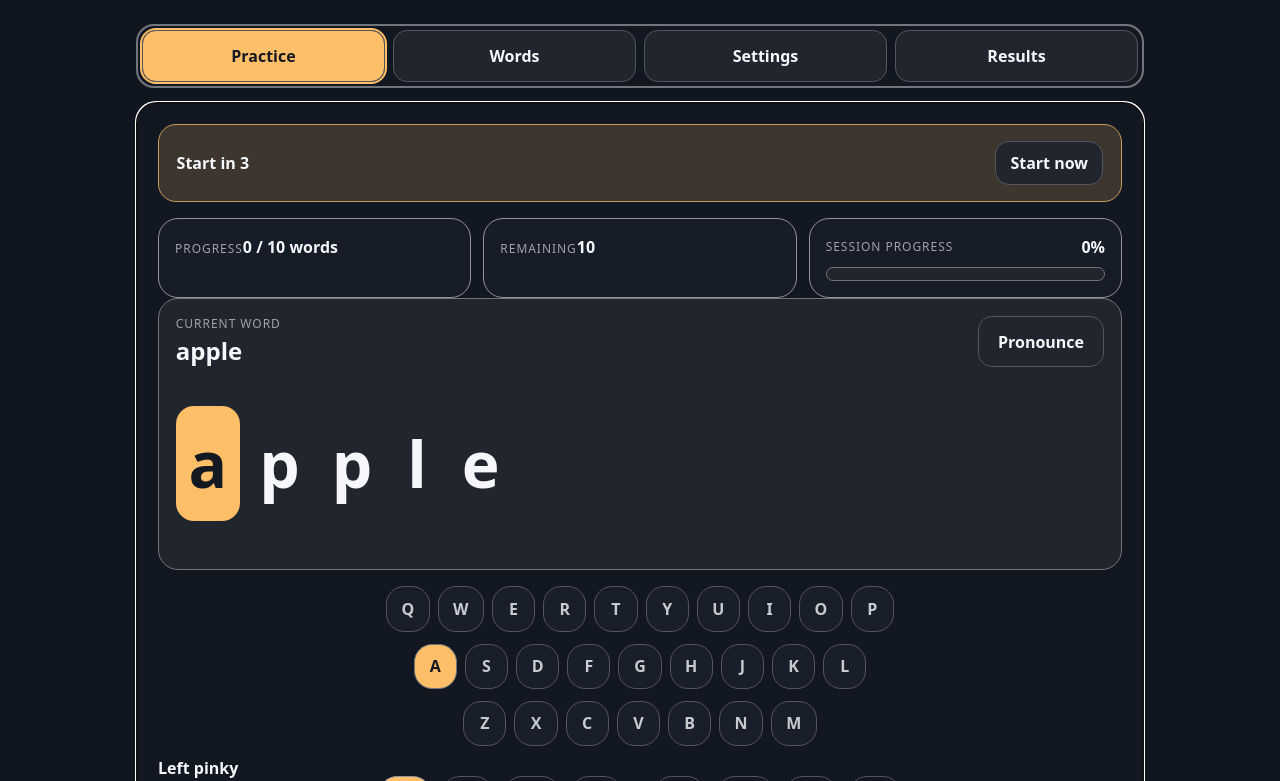
Test case: App › toggles visible bulk selection for custom words
Click the button "Words": coordinates (514, 56) [393,30,636,82]
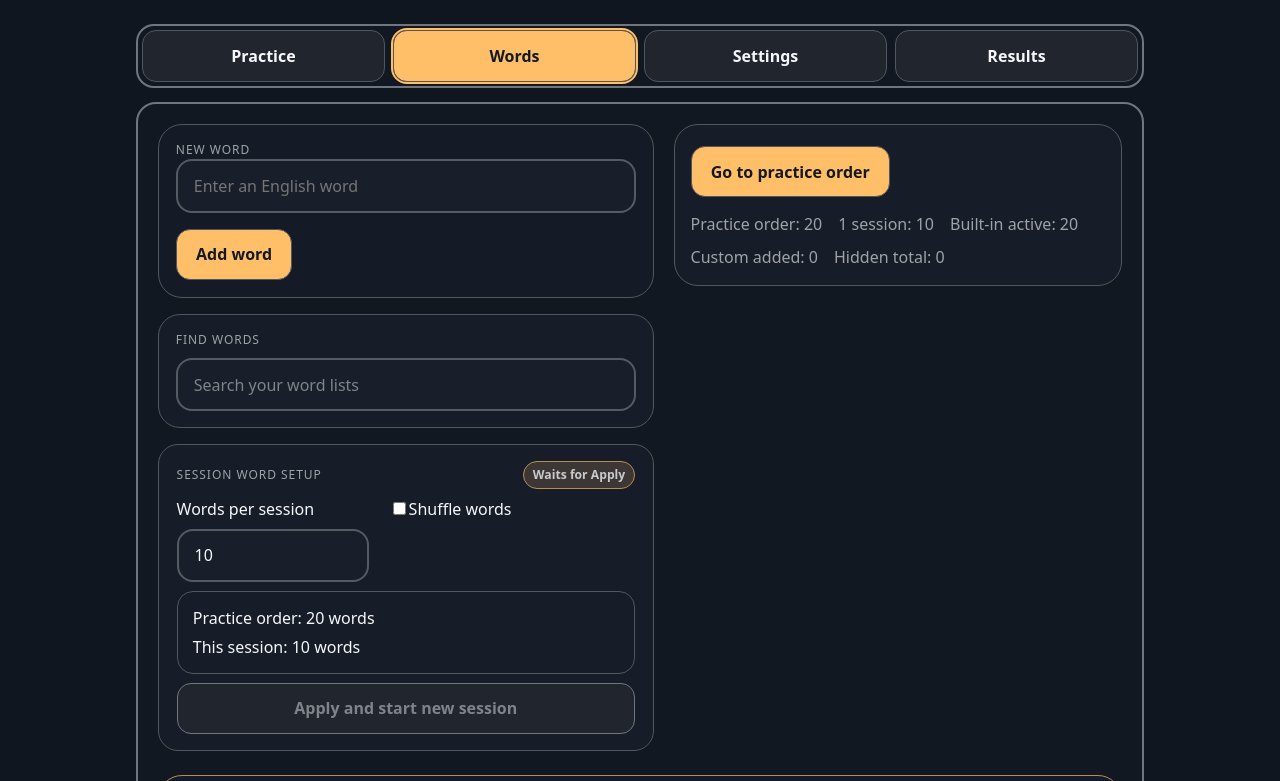
In the field named "New word": coordinates (406, 186) [176,159,636,213], type "banana"
Click the button "Add word": coordinates (234, 254) [176,229,292,280]
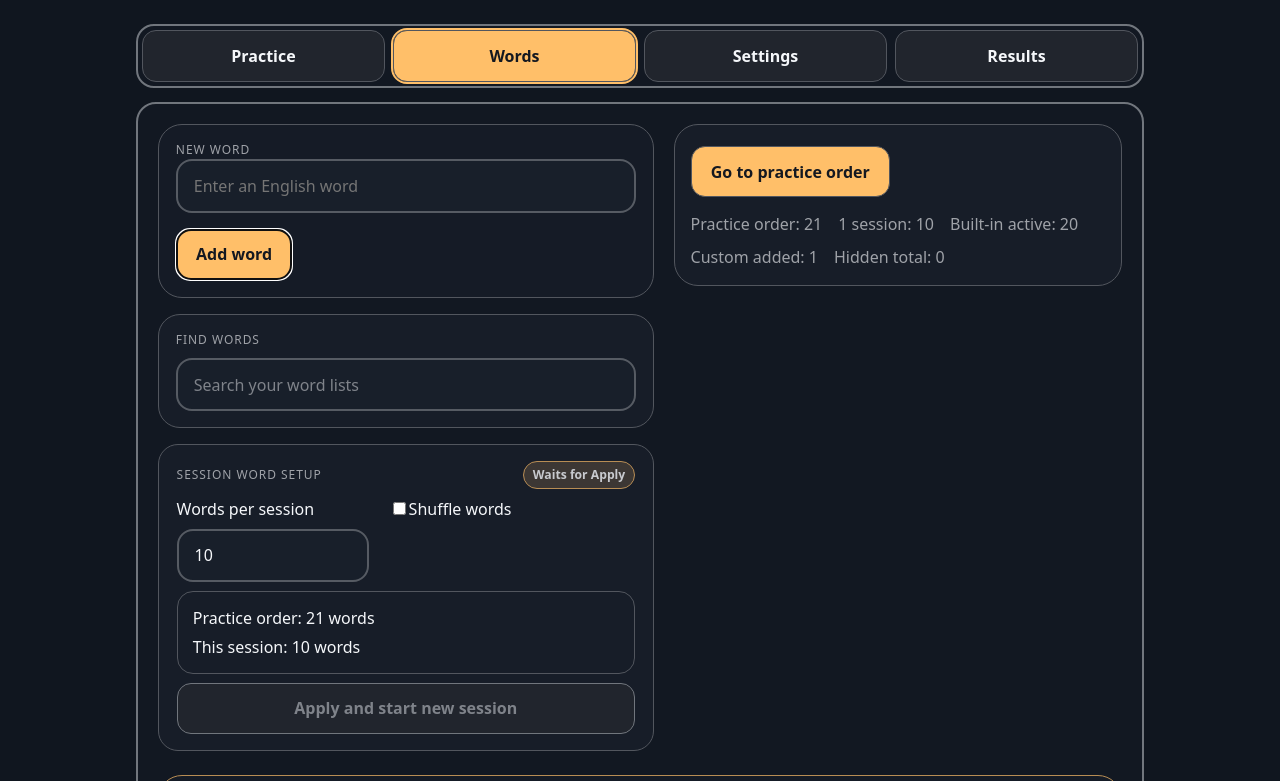
In the field named "New word": coordinates (406, 186) [176,159,636,213], type "grape"
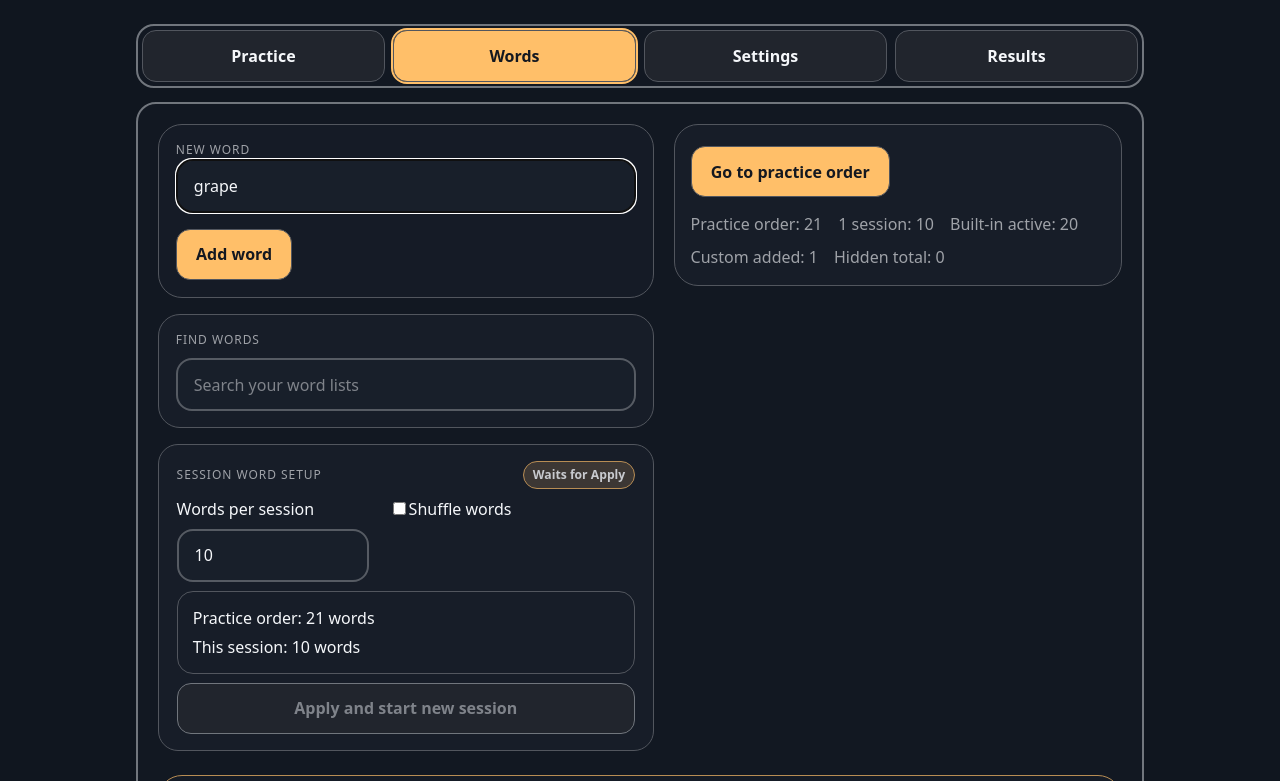
Click the button "Add word": coordinates (234, 254) [176,229,292,280]
(page scrolled)
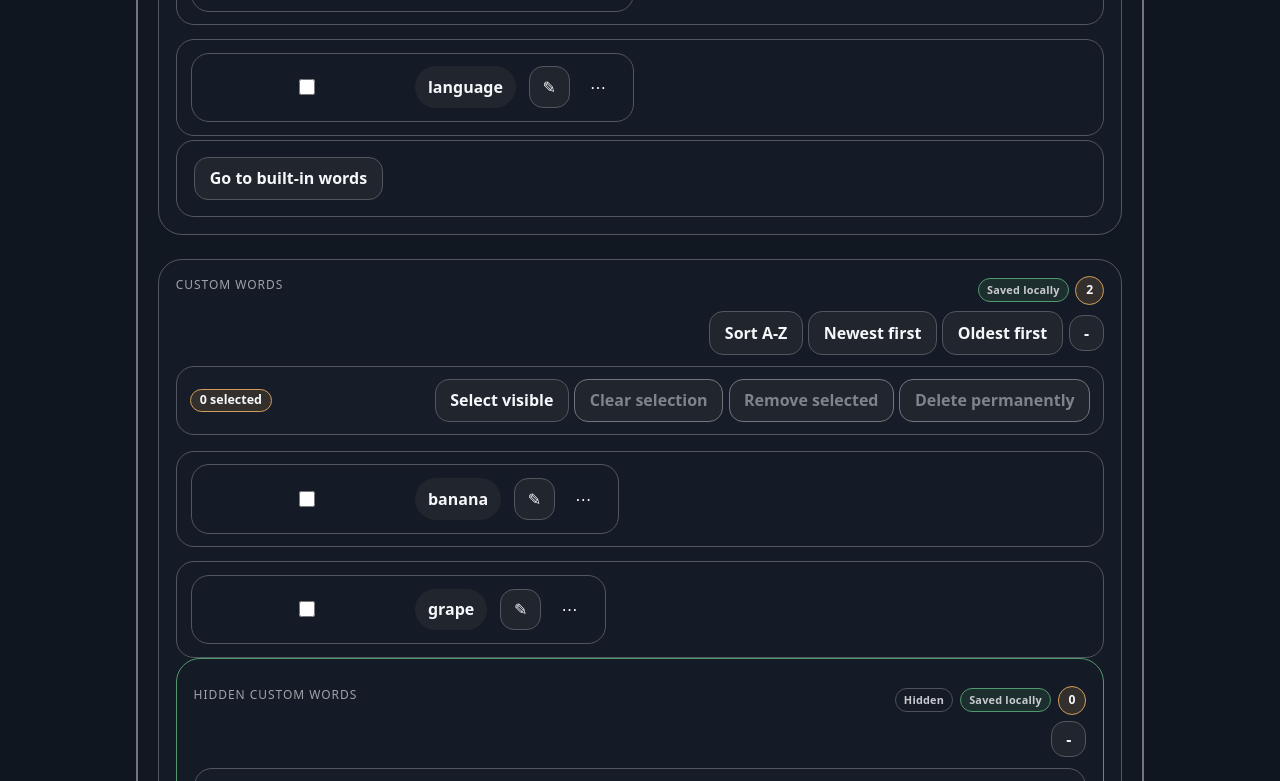
Click the button with test id "bulk-select-visible-custom-button": coordinates (502, 400) [435,378,569,422]
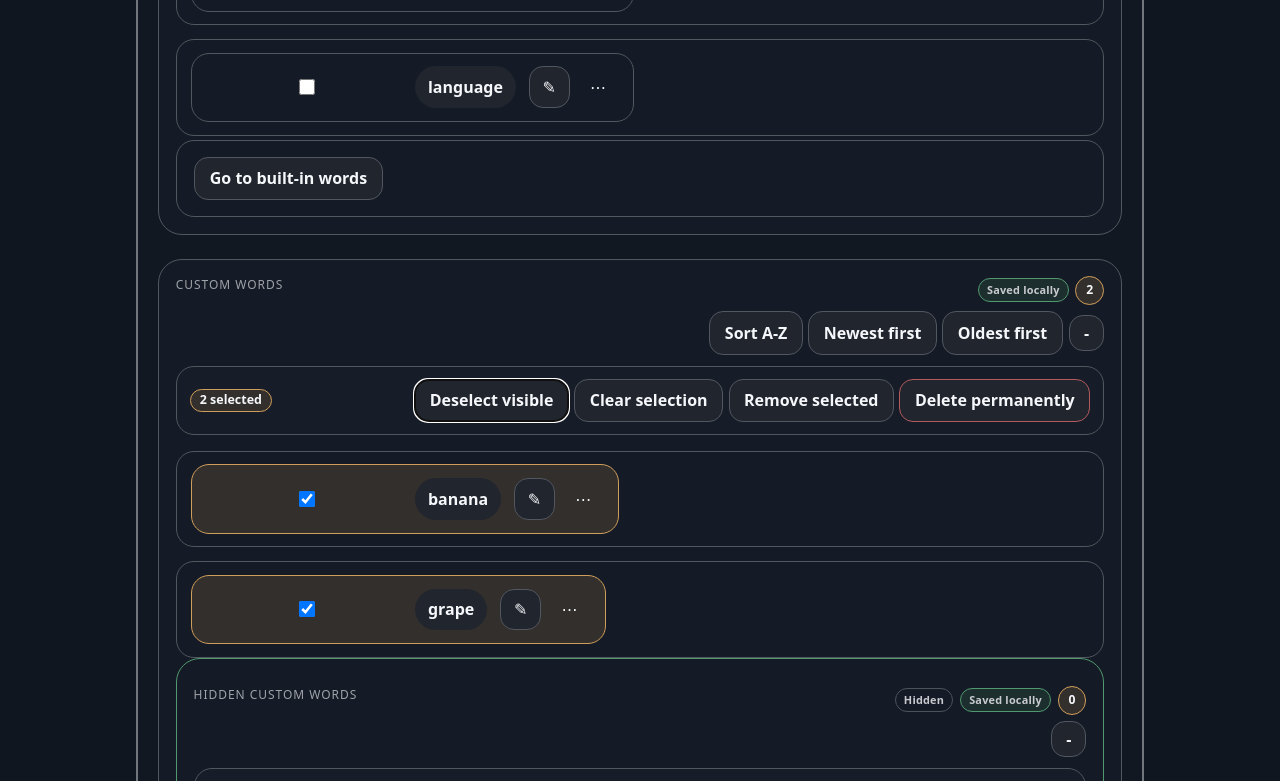
Expected: the checkbox with test id "select-custom-word-checkbox-custom-banana" is checked, [211,491,403,507]
Expected: the checkbox with test id "select-custom-word-checkbox-custom-grape" is checked, [211,601,403,617]
Click the button with test id "bulk-select-visible-custom-button": coordinates (492, 400) [414,378,569,422]
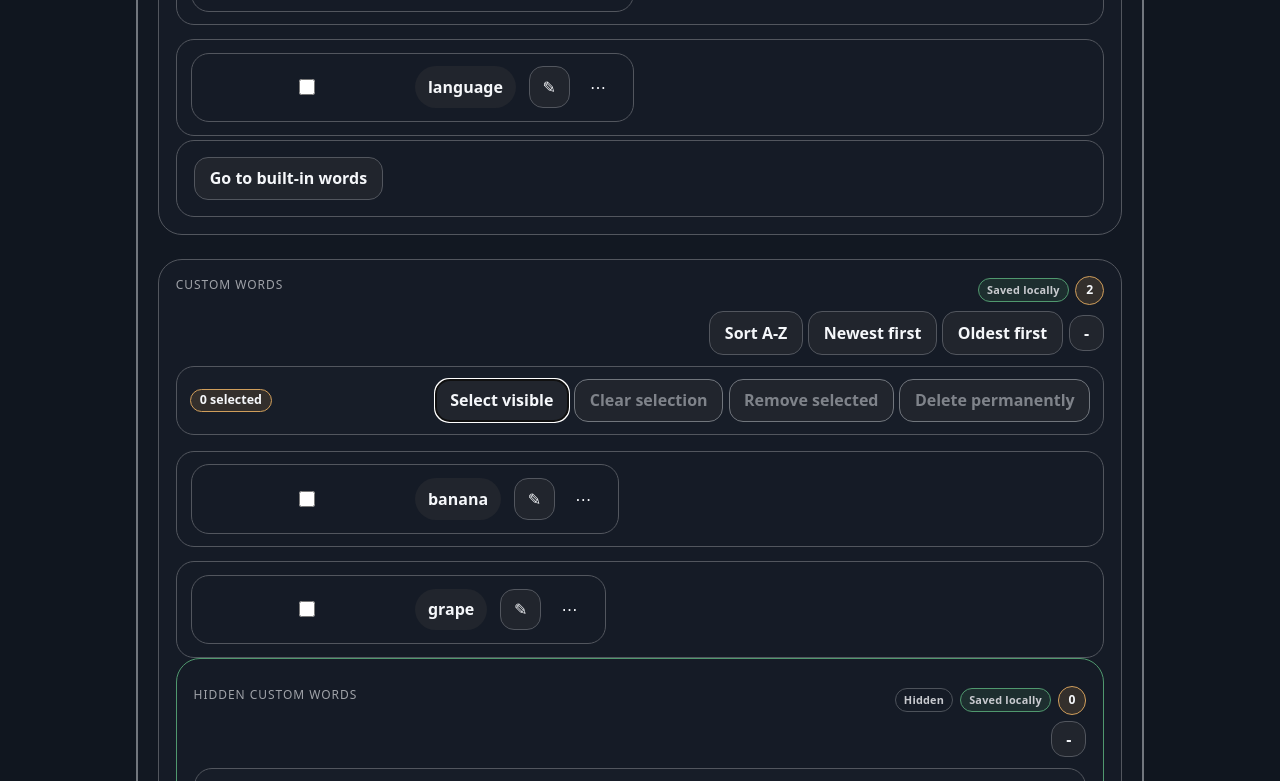
Expected: the checkbox with test id "select-custom-word-checkbox-custom-banana" is not checked, [211,491,403,507]
Expected: the checkbox with test id "select-custom-word-checkbox-custom-grape" is not checked, [211,601,403,617]
